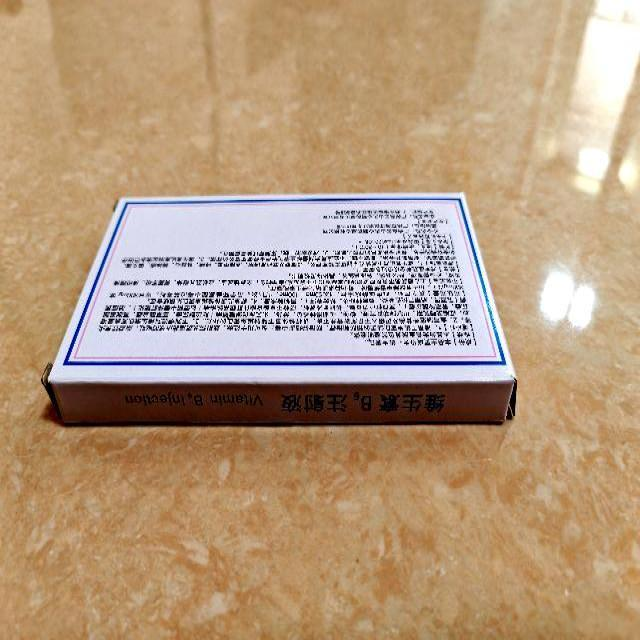box: (49, 191, 517, 425)
